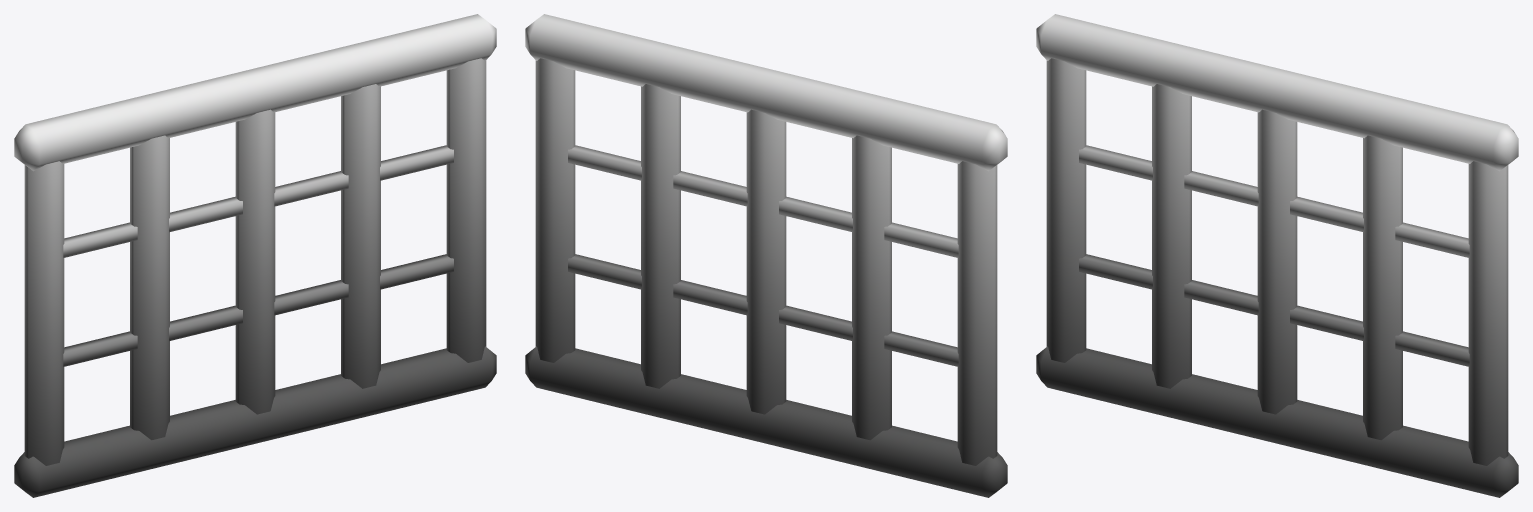
Rendered from SM_Wood_Window_01.fbx.
3 views of the same model, side by side, from view 1: azimuth 30°, elevation 25°; view 2: azimuth 150°, elevation 25°; view 3: azimuth 330°, elevation 25° (orthographic).
Visible parts, largest first — view 1: SM_Wood_Window_01; view 2: SM_Wood_Window_01; view 3: SM_Wood_Window_01.
Part boxes in pixels (<box>): SM_Wood_Window_01: <box>14,14,496,497</box>; SM_Wood_Window_01: <box>525,14,1007,497</box>; SM_Wood_Window_01: <box>1036,14,1518,497</box>.
Bounding box in the file's own units: 0.6192 × 0.4589 × 0.0466.
